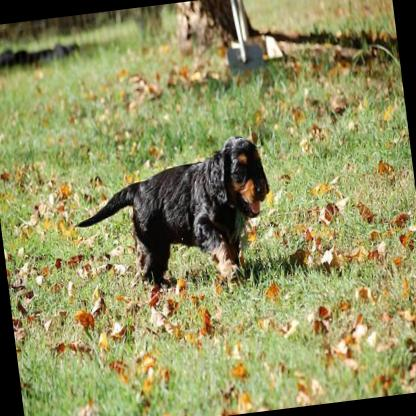Gordon_setter: (63, 133, 280, 298)
